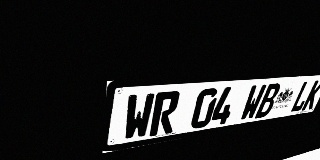0: (189, 88, 220, 130)
4: (209, 86, 239, 126)
B: (254, 83, 282, 119)
K: (301, 79, 320, 111)
L: (289, 80, 315, 113)
R: (149, 91, 181, 137)
W: (122, 93, 155, 141), (239, 84, 267, 121)
